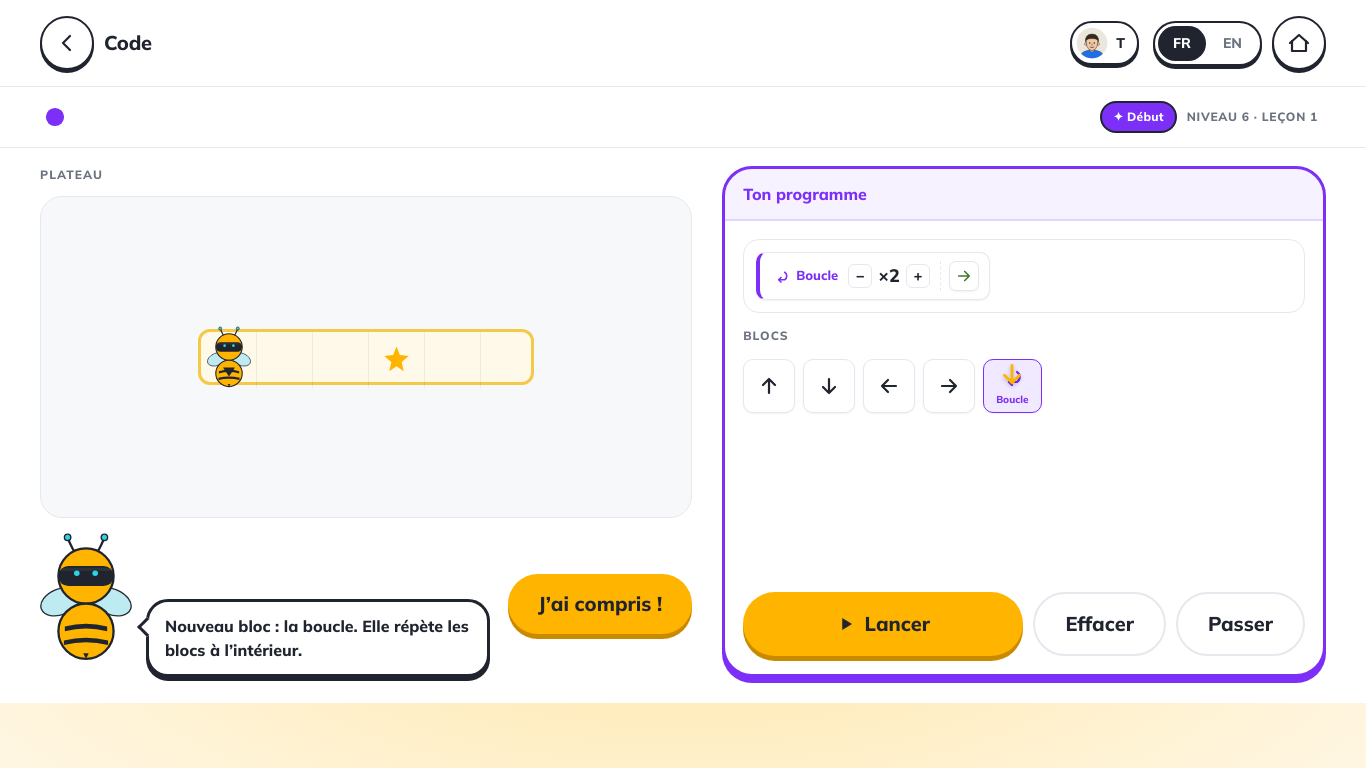
Scenario: CodeTurtleSession debug (L6) › pre-loads the broken program and solves after fixing the loop count
Click the button named "count-up" at (918, 276), box [906, 264, 930, 288]
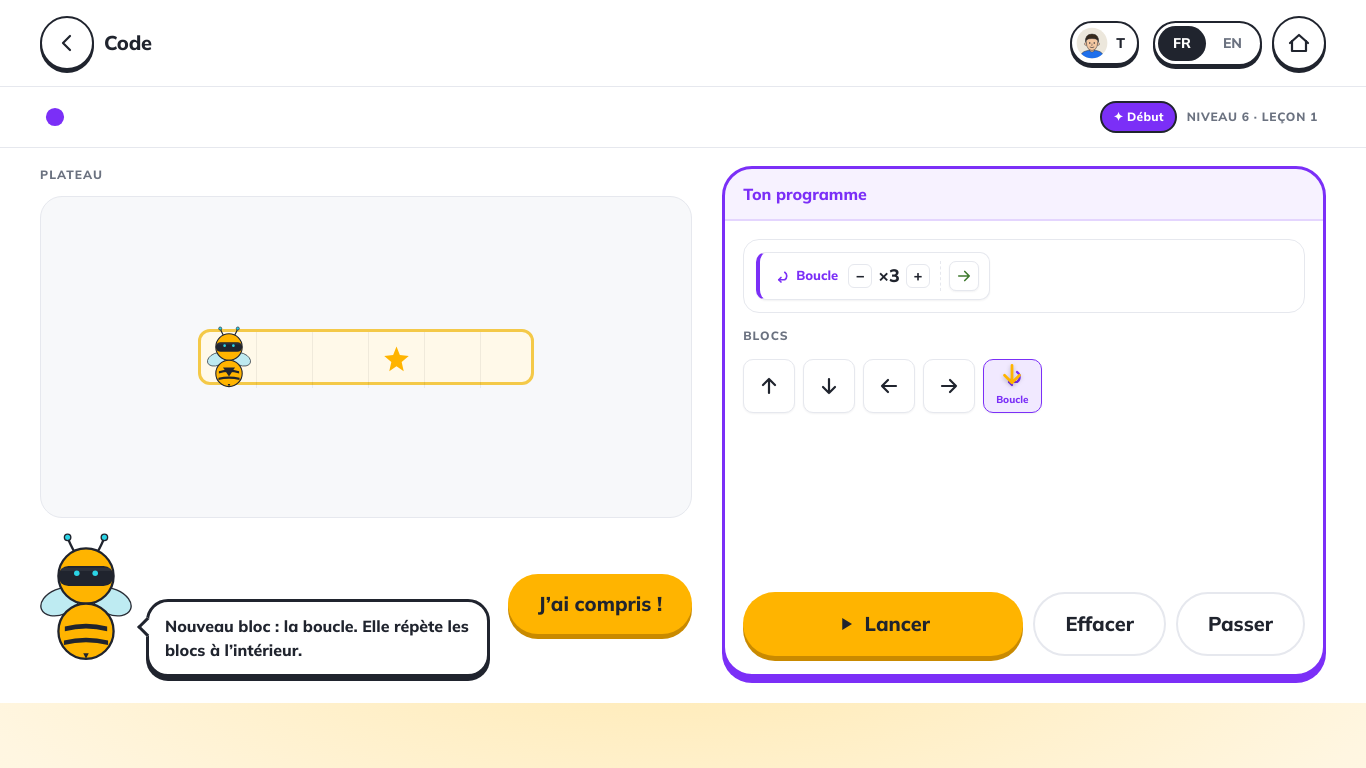
Click the button "Lancer" at (883, 624), box [743, 592, 1023, 656]
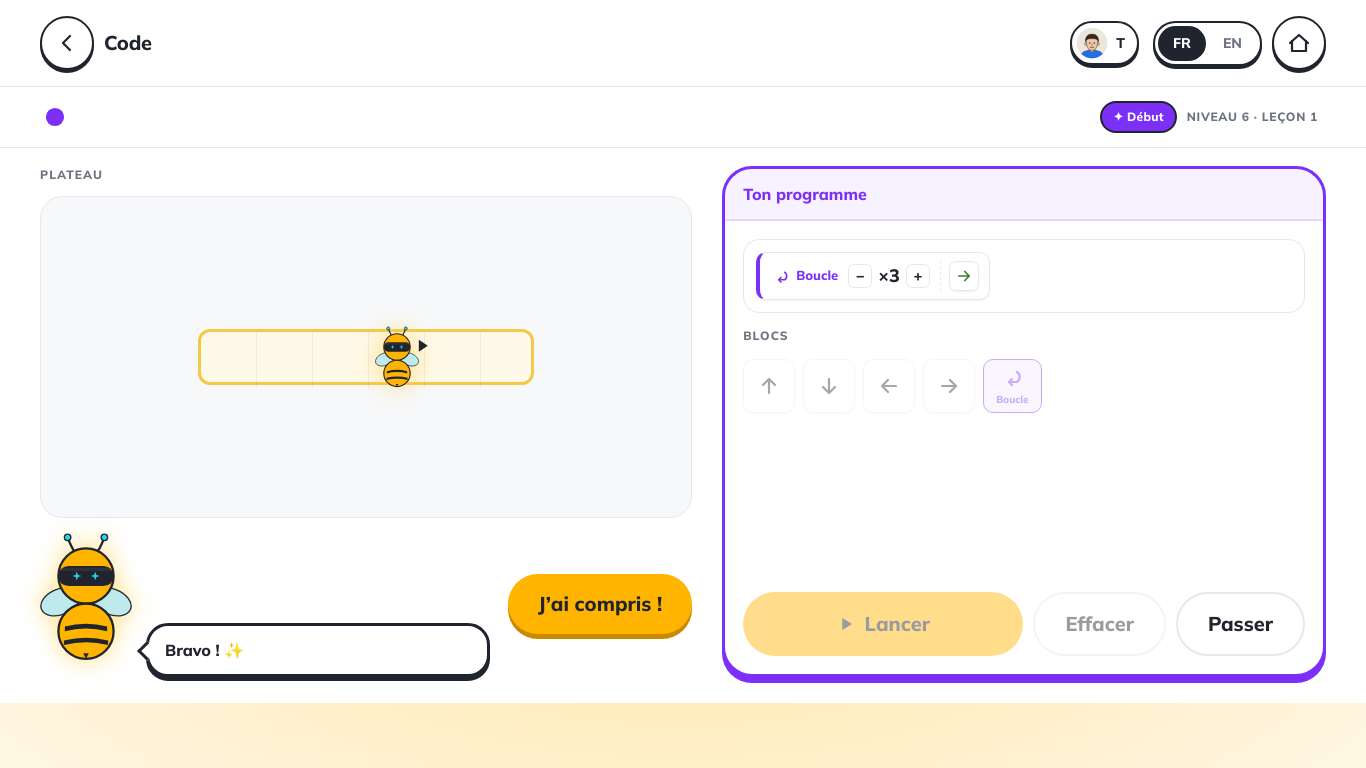
Result: the text with class "bee-coach-text" reads "Bravo ! ✨" at [165, 640, 244, 660]
